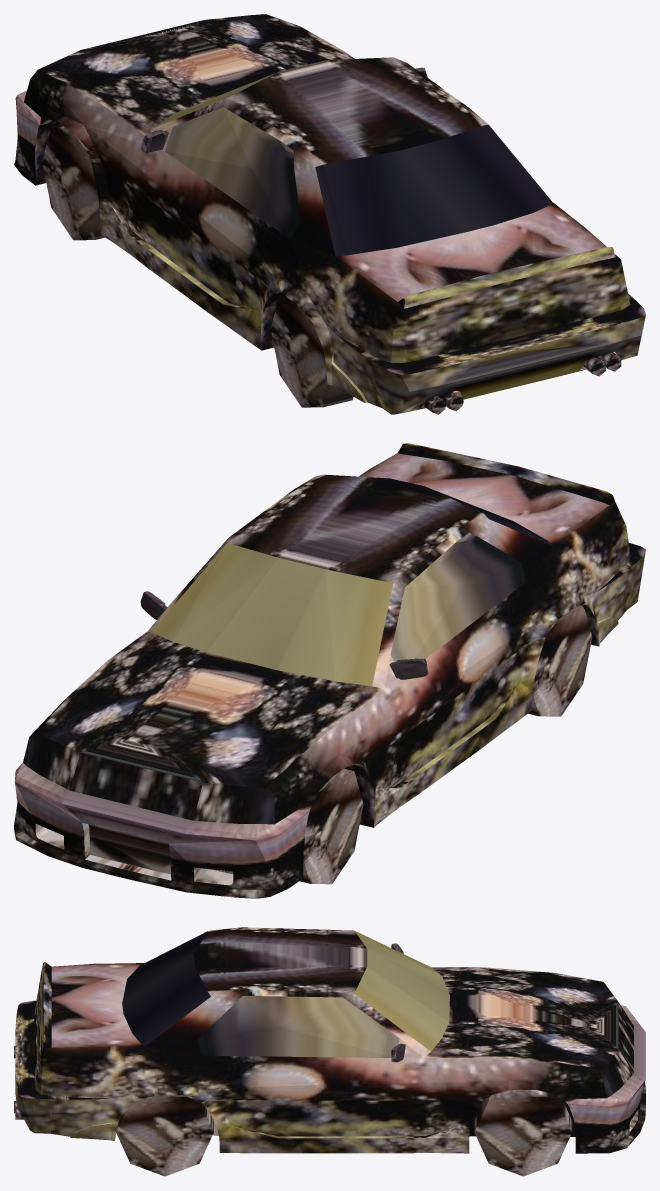
The model's file is car 2.fbx.
The picture shows the model from 3 angles, top to bottom: view 1: azimuth 30°, elevation 25°; view 2: azimuth 150°, elevation 25°; view 3: azimuth 270°, elevation 25°; orthographic projection. The views are drawn at different scales.
Visible parts, largest first — view 1: car2; view 2: car2; view 3: car2.
Boxes of the visible parts, left/top/right/bottom form: car2: left=14, top=14, right=645, bottom=414; car2: left=14, top=443, right=645, bottom=898; car2: left=14, top=927, right=645, bottom=1176.
Size of the model in its own units: 190 by 137 by 463.
